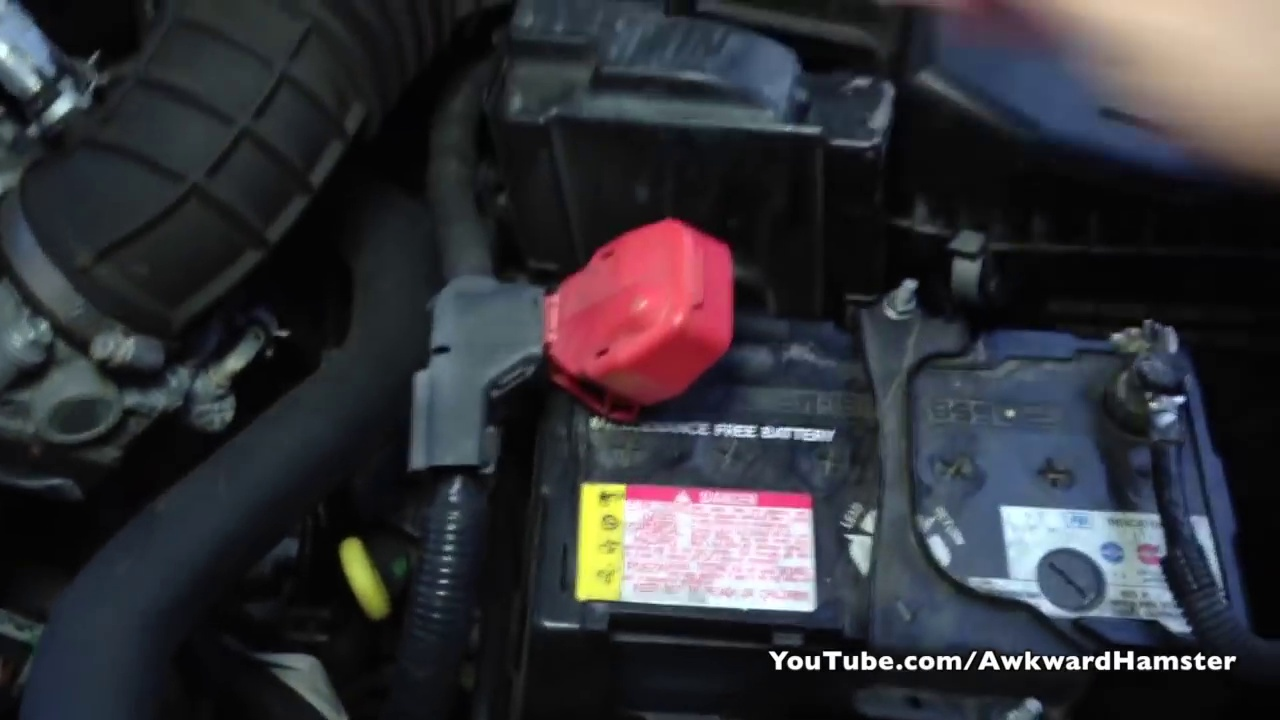battery: (523, 281, 1237, 669)
neg_connected: (1093, 316, 1214, 518)
pos_connected: (489, 218, 741, 412)
